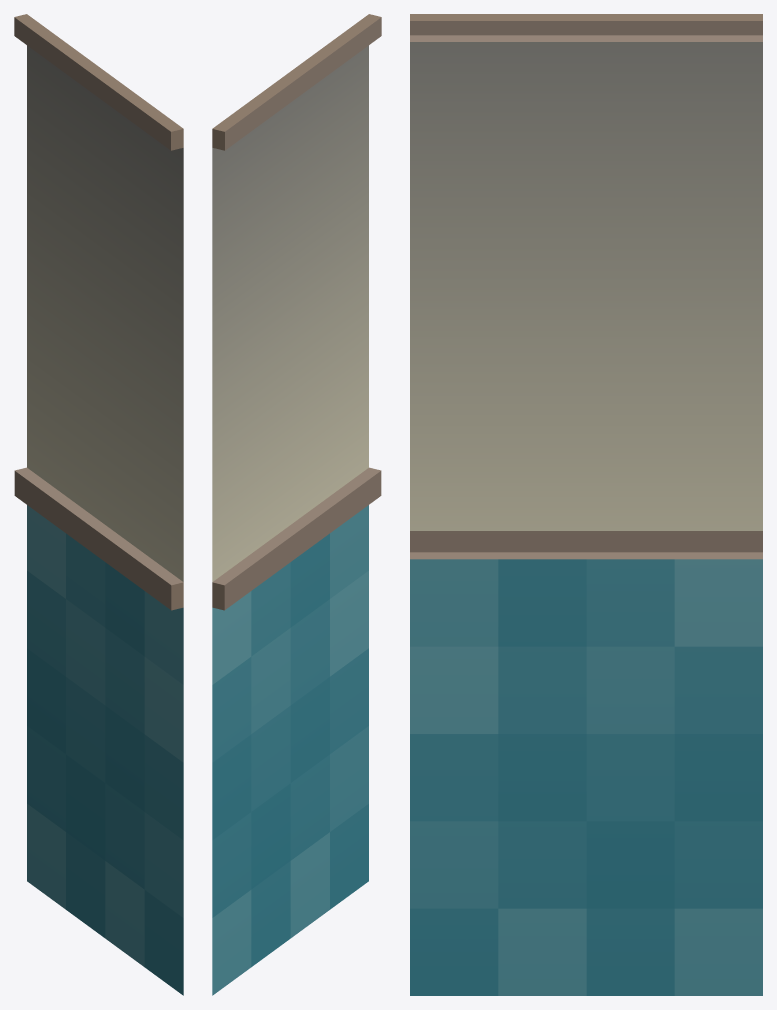
File: B01_wall_3.fbx
3 renders of one model, left to right at view 1: azimuth 30°, elevation 25°; view 2: azimuth 150°, elevation 25°; view 3: azimuth 270°, elevation 25°, orthographic. The views are drawn at different scales.
Visible parts, largest first — view 1: B01_wall_3; view 2: B01_wall_3; view 3: B01_wall_3.
Boxes of the visible parts, x1=… form: B01_wall_3: x1=14, y1=14, x2=183, y2=995; B01_wall_3: x1=212, y1=14, x2=381, y2=995; B01_wall_3: x1=410, y1=14, x2=762, y2=995.
Bounding box in the file's own units: 4.65 × 305 × 100.
